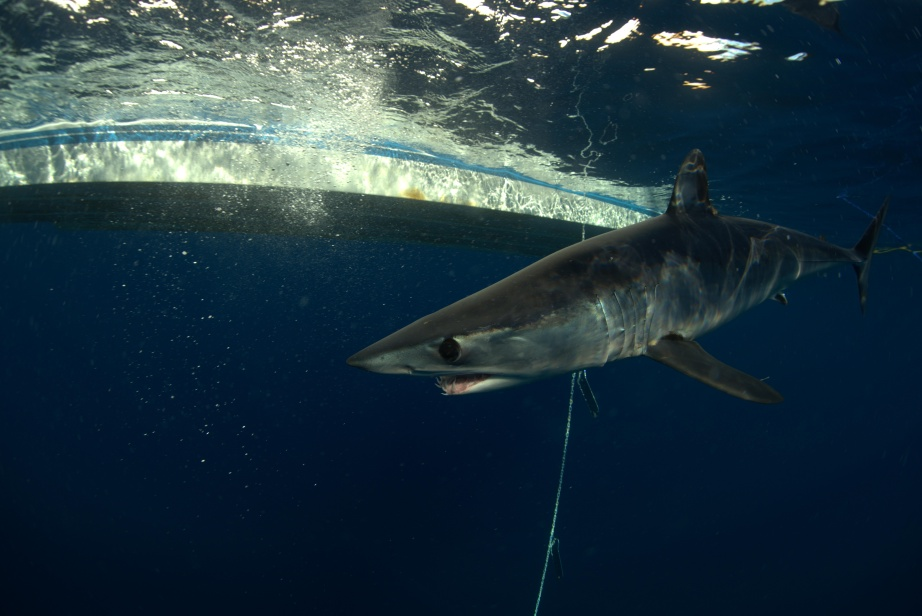Mako: (343, 124, 917, 429)
